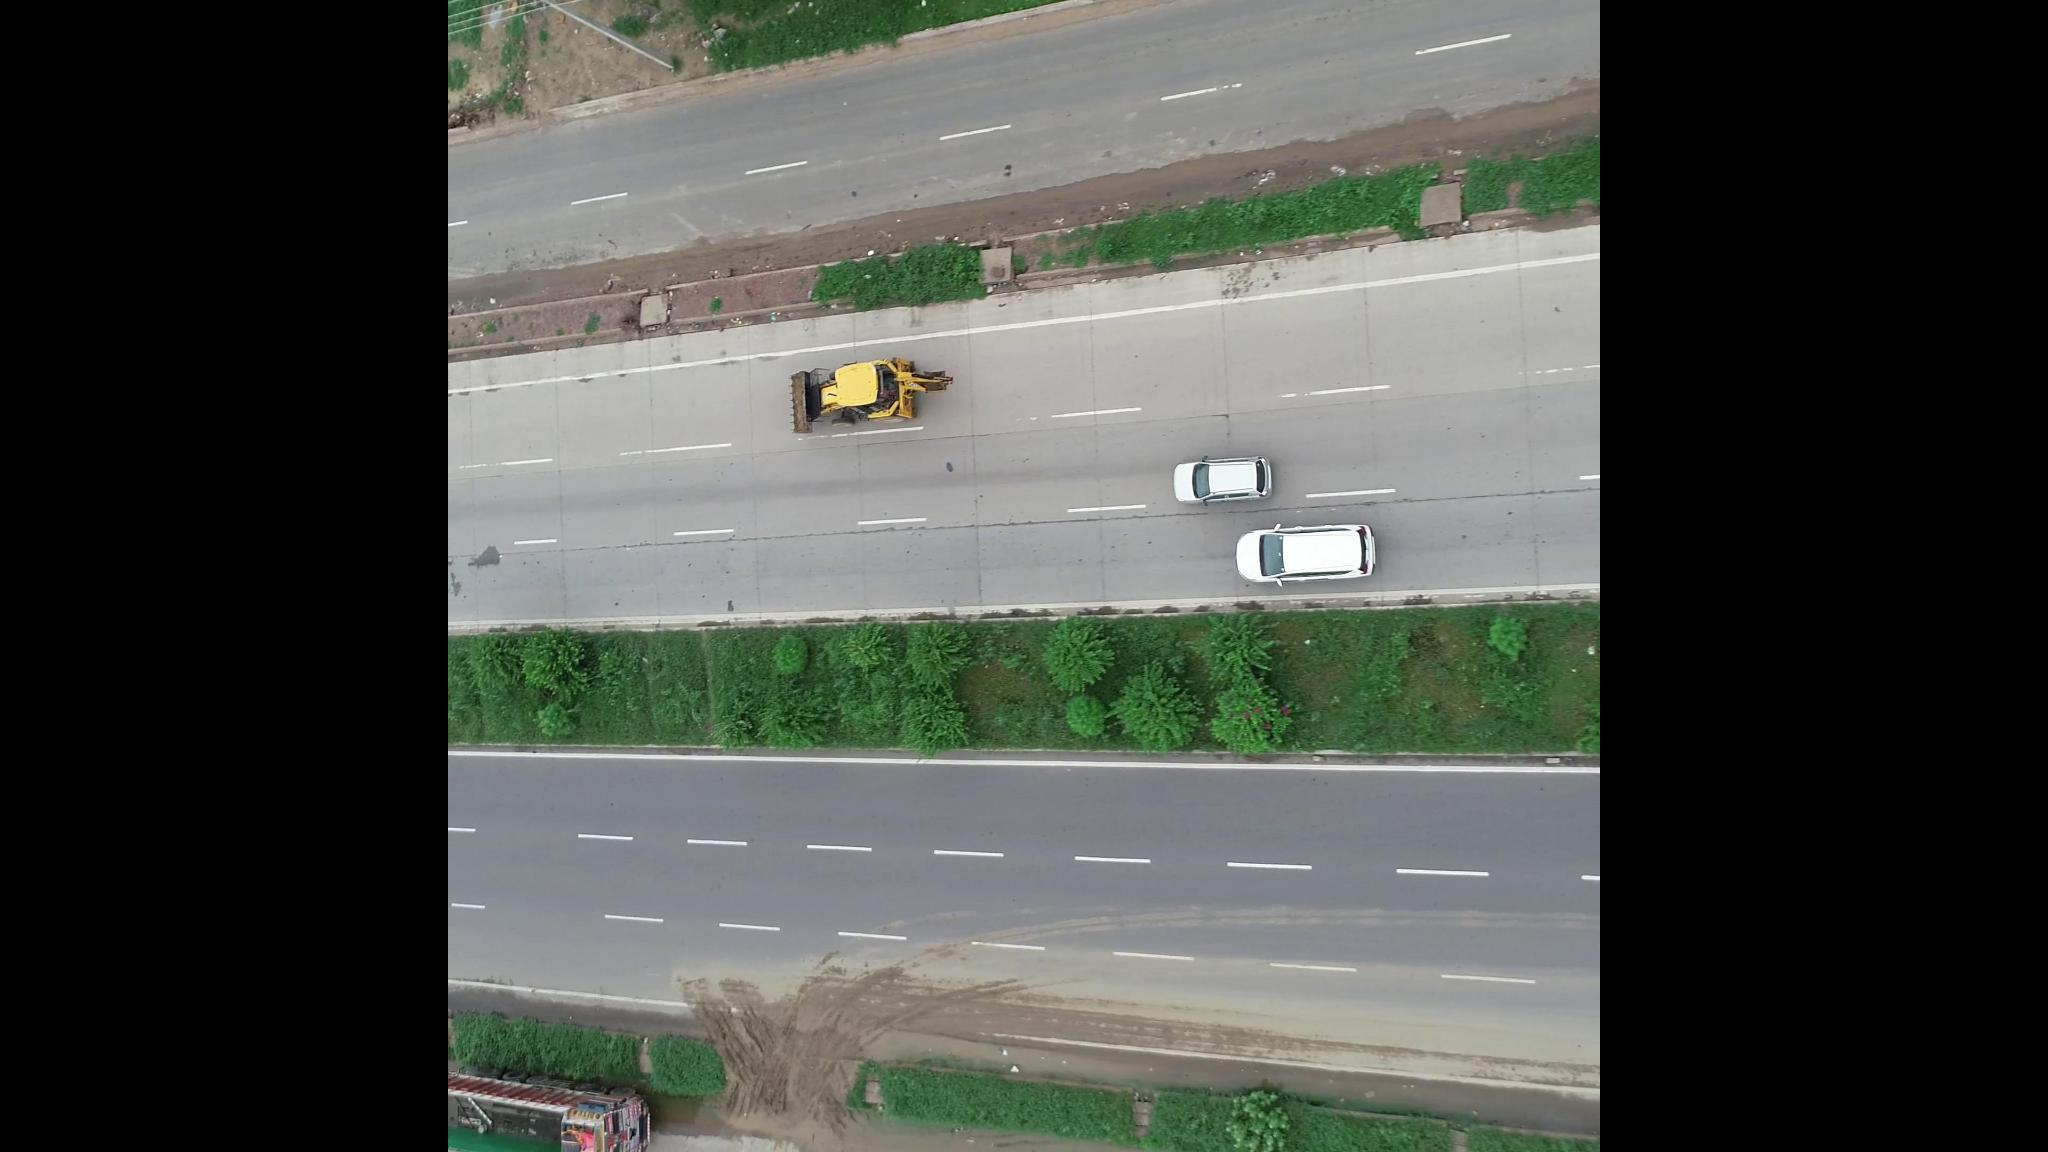Muddy_road: (542, 193, 844, 297), (677, 945, 895, 1054), (727, 1099, 979, 1152)
